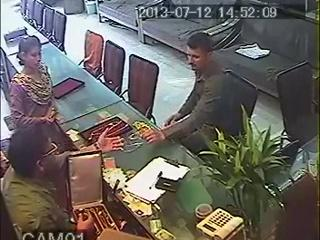Normal: (180, 104, 300, 240), (0, 120, 126, 240), (135, 32, 234, 147), (8, 35, 62, 129)
